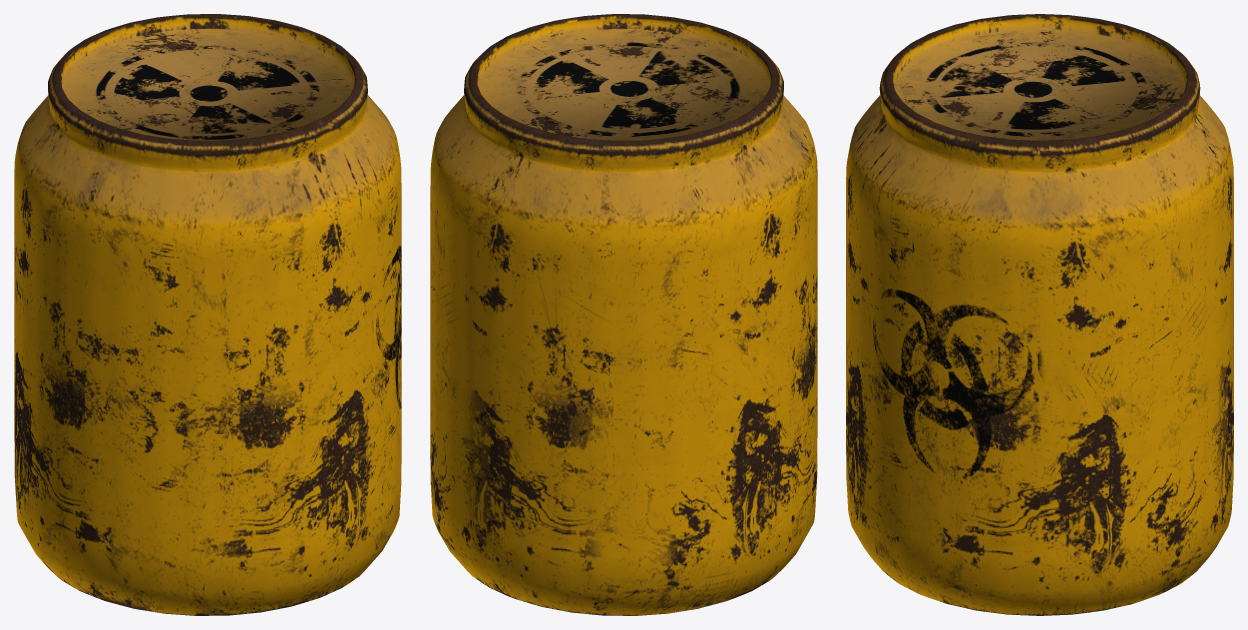
The model's file is radioactive_barrel.glb.
The picture shows the model from 3 angles, left to right: view 1: azimuth 30°, elevation 25°; view 2: azimuth 150°, elevation 25°; view 3: azimuth 270°, elevation 25°; orthographic projection.
Parts seen in each view (by area): view 1: Object_2; view 2: Object_2; view 3: Object_2.
Boxes of the visible parts, bbox=[...] form: Object_2: bbox=[14, 14, 401, 615]; Object_2: bbox=[430, 14, 817, 615]; Object_2: bbox=[846, 14, 1233, 615].
Size of the model in its own units: 199 by 265 by 199.
Materials: 1 (1 with a texture image).
